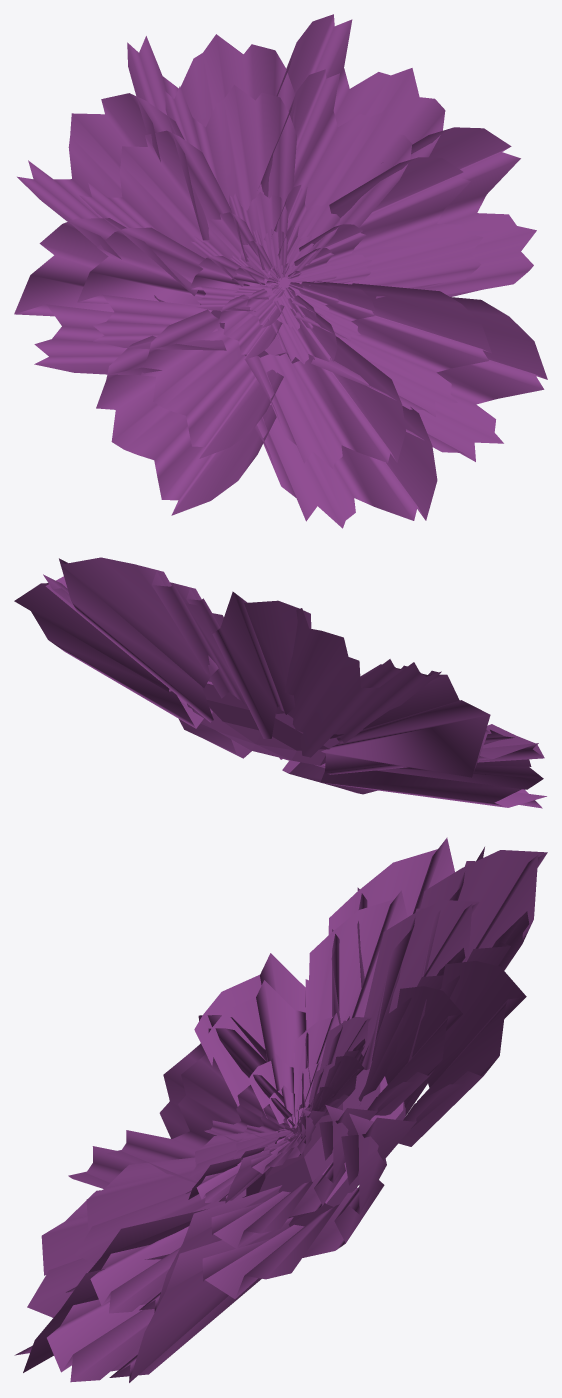
Rendered from carnationFlowerPink.fbx.
The picture shows the model from 3 angles, top to bottom: view 1: azimuth 30°, elevation 25°; view 2: azimuth 150°, elevation 25°; view 3: azimuth 270°, elevation 25°; orthographic projection. The views are drawn at different scales.
Visible parts, largest first — view 1: Rose_Petal13; view 2: Rose_Petal13; view 3: Rose_Petal13.
Boxes of the visible parts, x1,y1,x2,y2 form: Rose_Petal13: (14, 14, 547, 528); Rose_Petal13: (14, 557, 546, 808); Rose_Petal13: (14, 837, 547, 1382).
Size of the model in its own units: 1.09 by 0.7305 by 0.7562.
